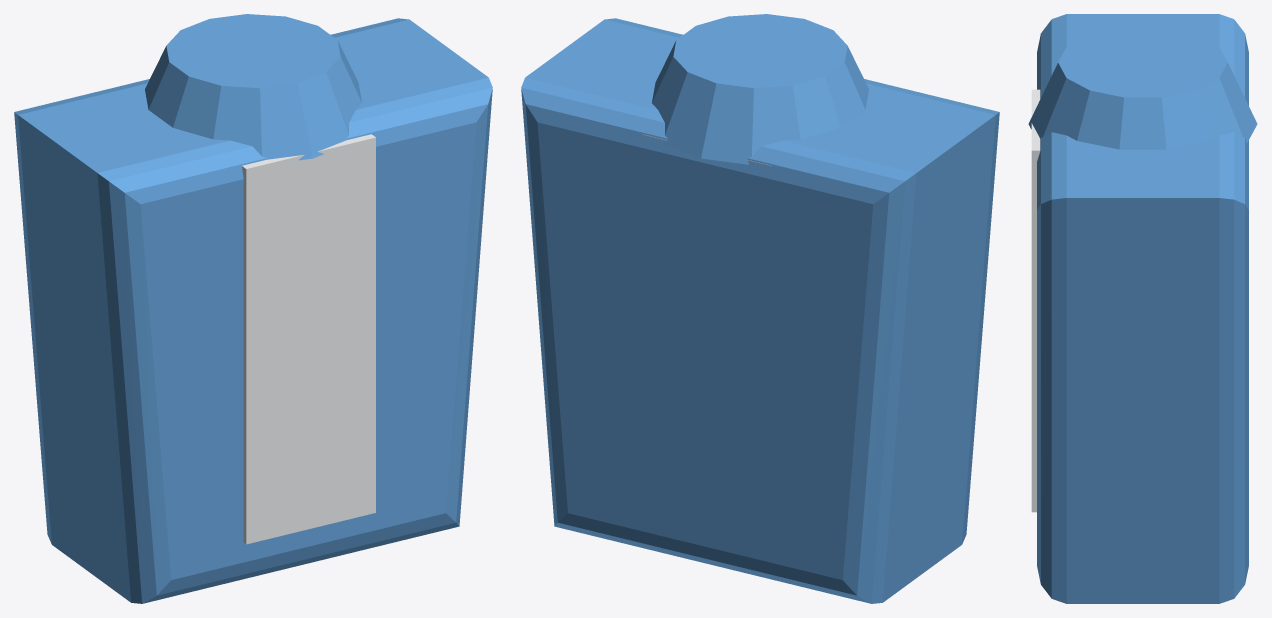
File: char_torso.glb
3 views of the same model, side by side, from view 1: azimuth 30°, elevation 25°; view 2: azimuth 150°, elevation 25°; view 3: azimuth 270°, elevation 25° (orthographic). The views are drawn at different scales.
Visible parts, largest first — view 1: char_torso; view 2: char_torso; view 3: char_torso.
Boxes of the visible parts, box(x1,y1,x2,y2) form: char_torso: box(14, 14, 492, 603); char_torso: box(521, 14, 999, 603); char_torso: box(1028, 14, 1257, 603).
Size of the model in its own units: 0.5128 by 0.605 by 0.27.
